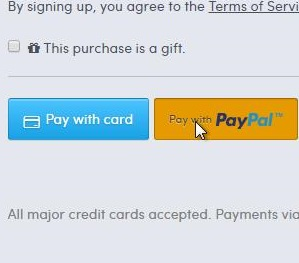cursor: (193, 119, 207, 140)
